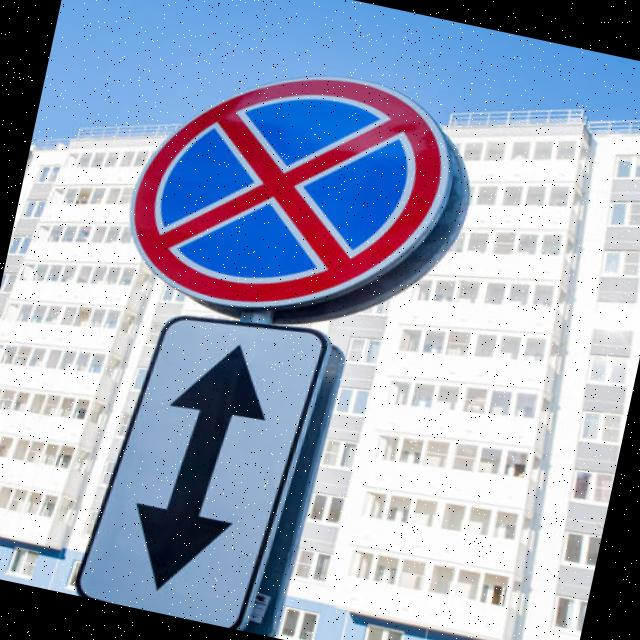no_parking: (100, 17, 482, 356)
